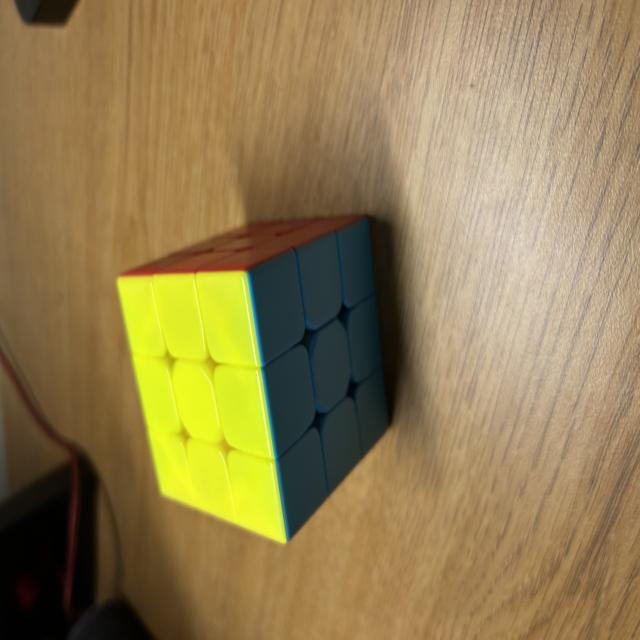Rubiks Cube: (114, 214, 392, 546)
